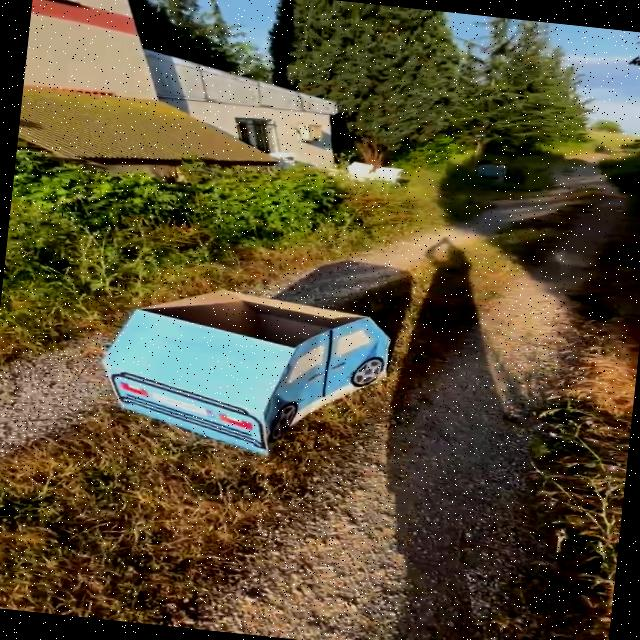blue_car: (31, 249, 473, 487)
